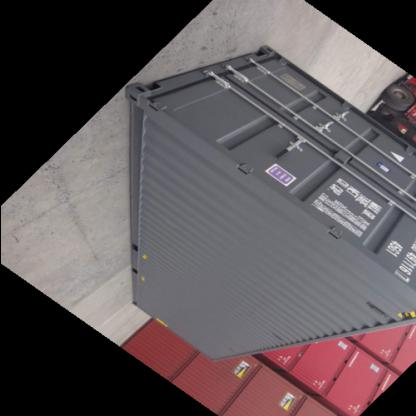Damage: (258, 327, 294, 343), (228, 340, 242, 360)
